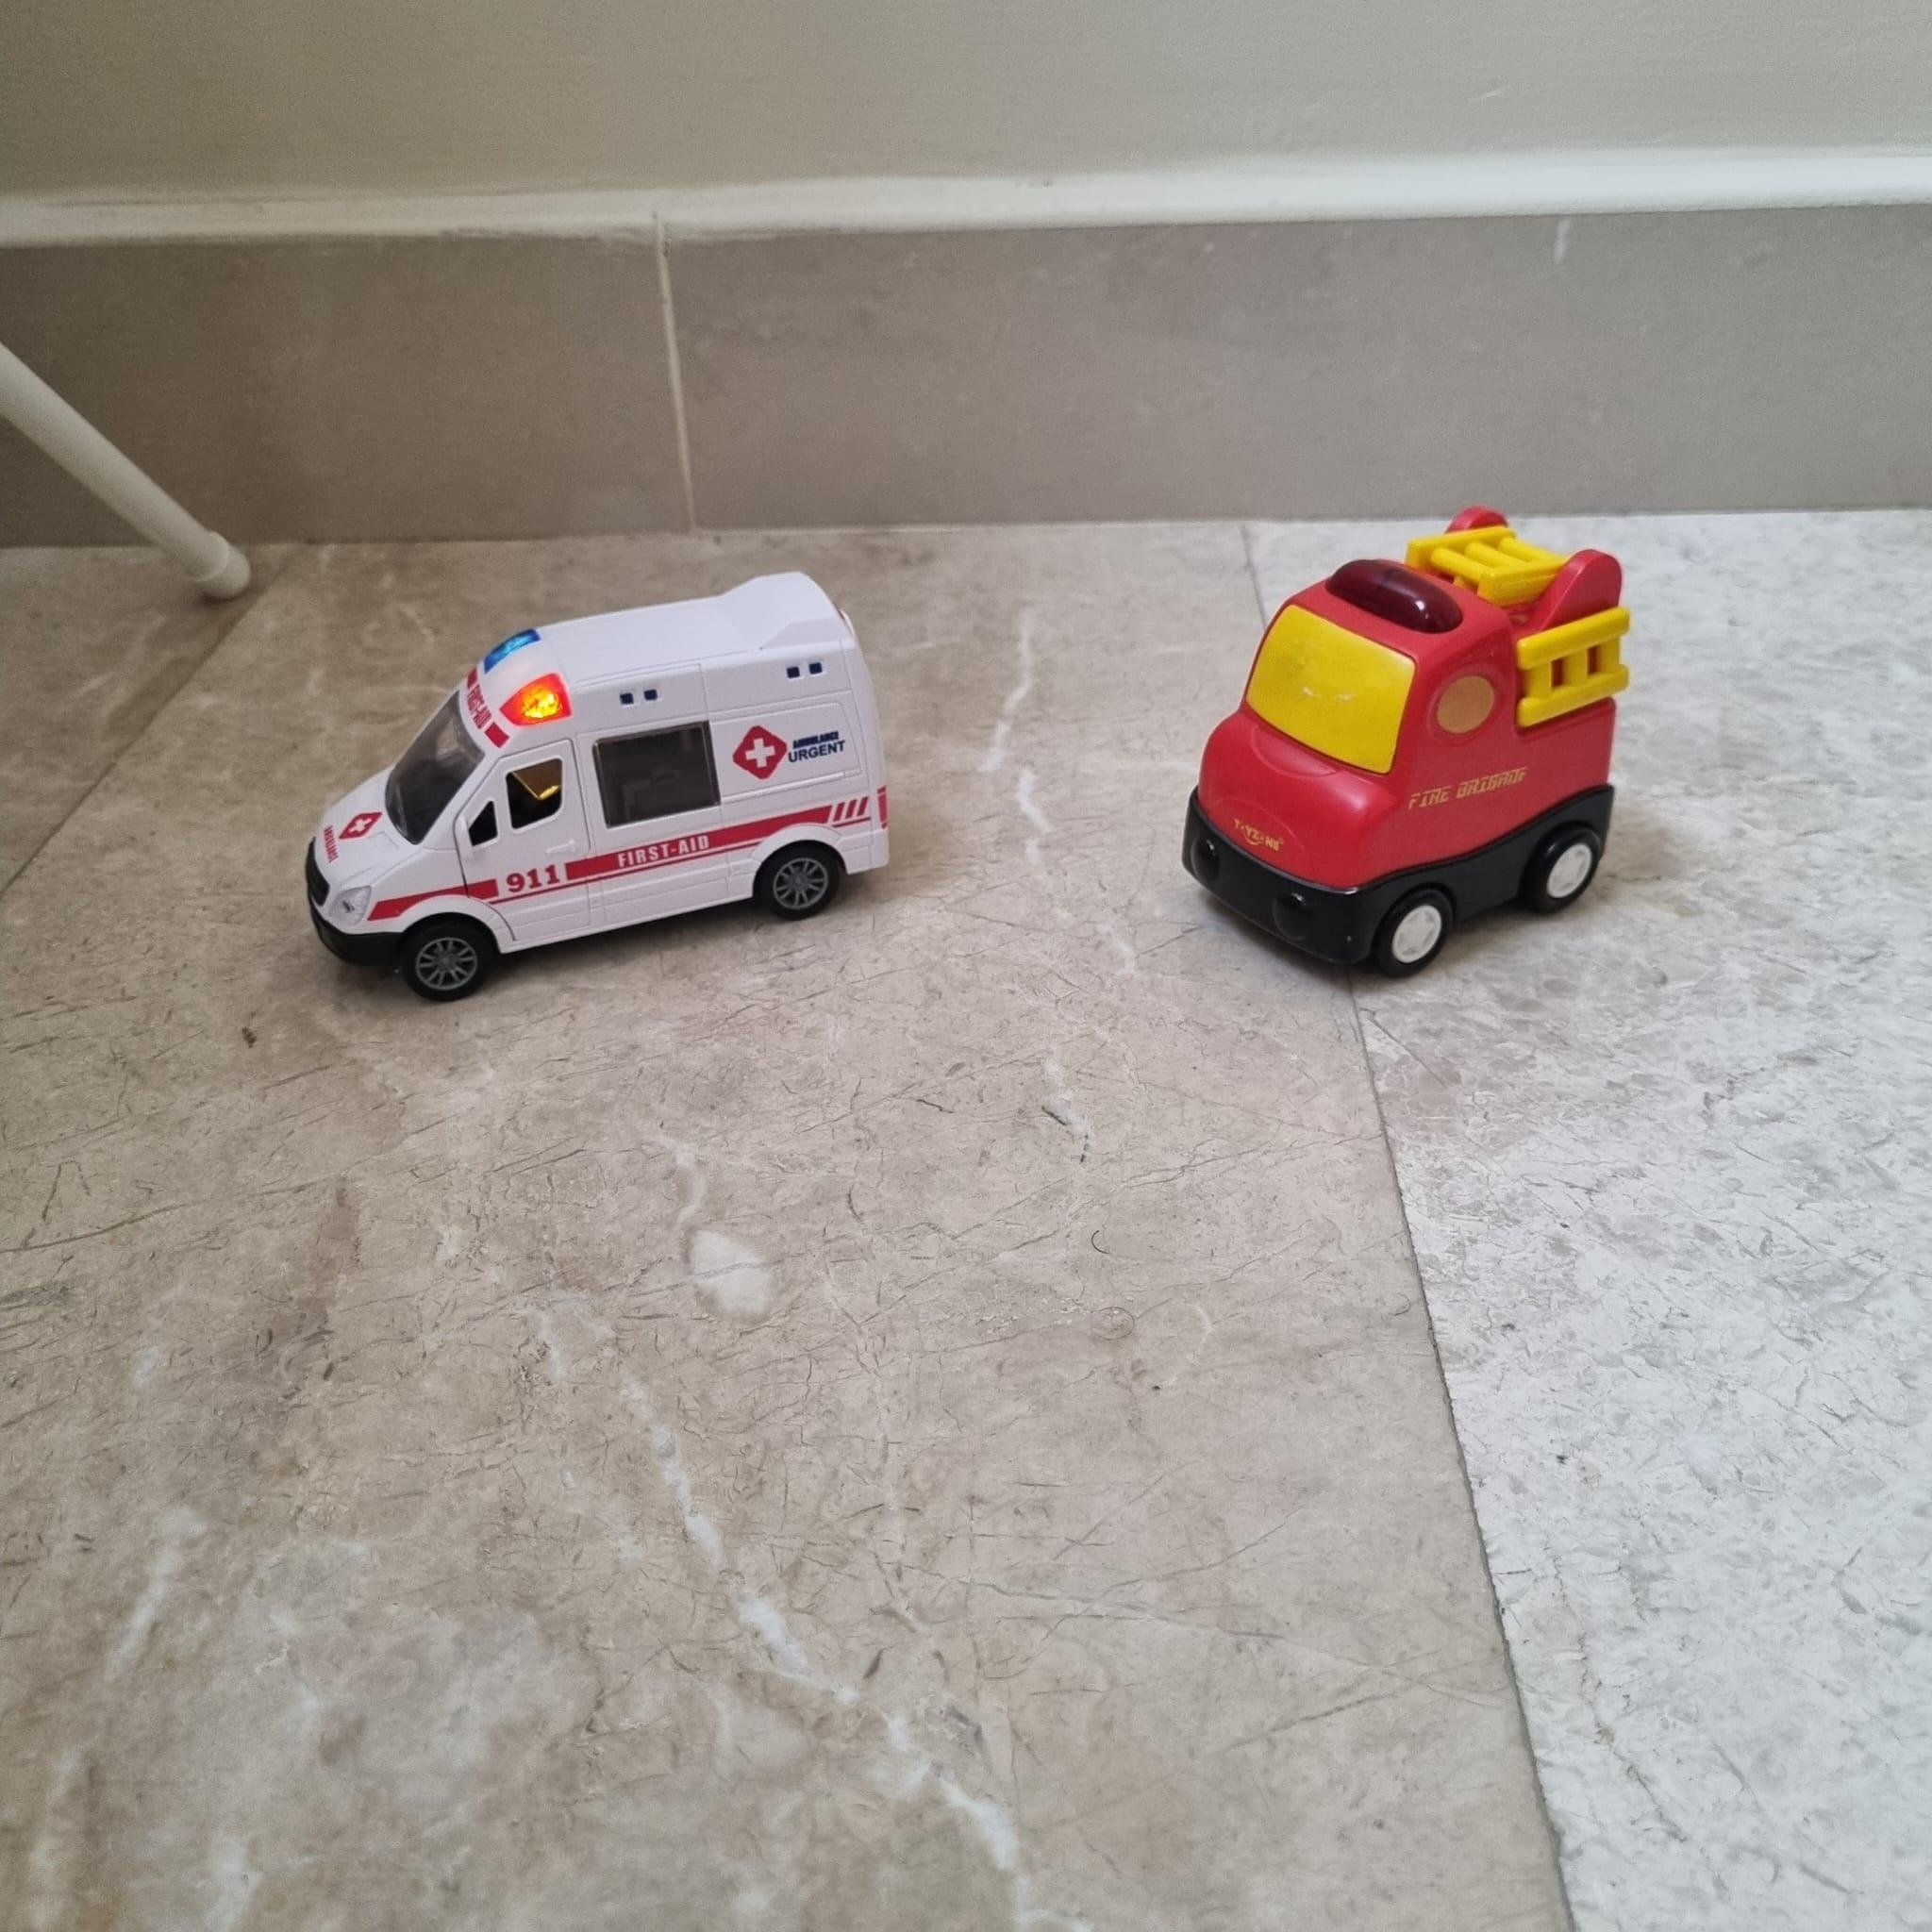ambulance_on: (301, 568, 899, 1001)
firetruck_off: (1182, 508, 1628, 984)
